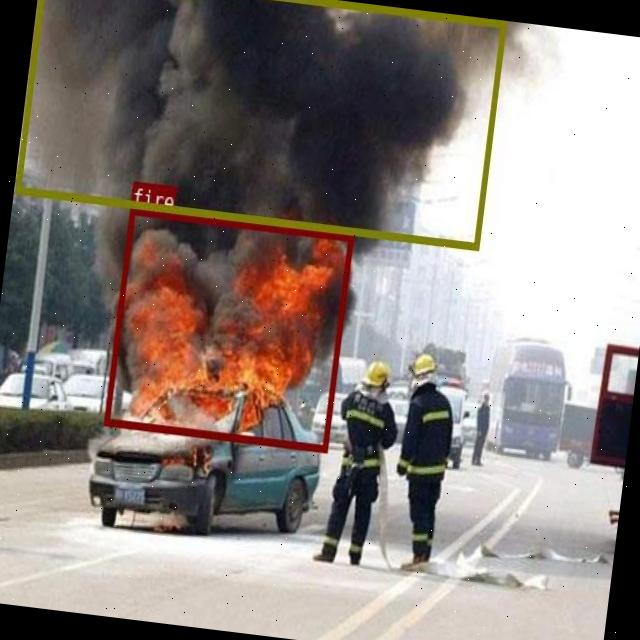fire: (103, 205, 353, 451)
smoke: (14, 0, 505, 249)
